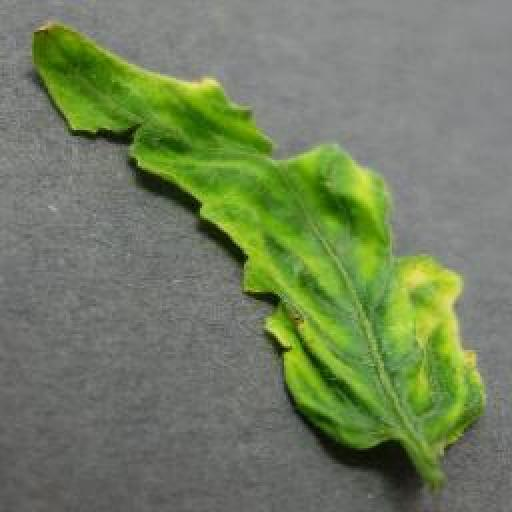Yellow Leaf Curl Virus: (32, 19, 484, 452)
